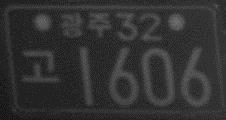0: (141, 47, 177, 108)
1: (77, 44, 96, 108)
2: (138, 11, 163, 43)
3: (114, 10, 138, 42)
6: (178, 45, 213, 107), (107, 45, 140, 107)
고: (19, 49, 61, 85)
광주_O: (58, 10, 112, 39)
